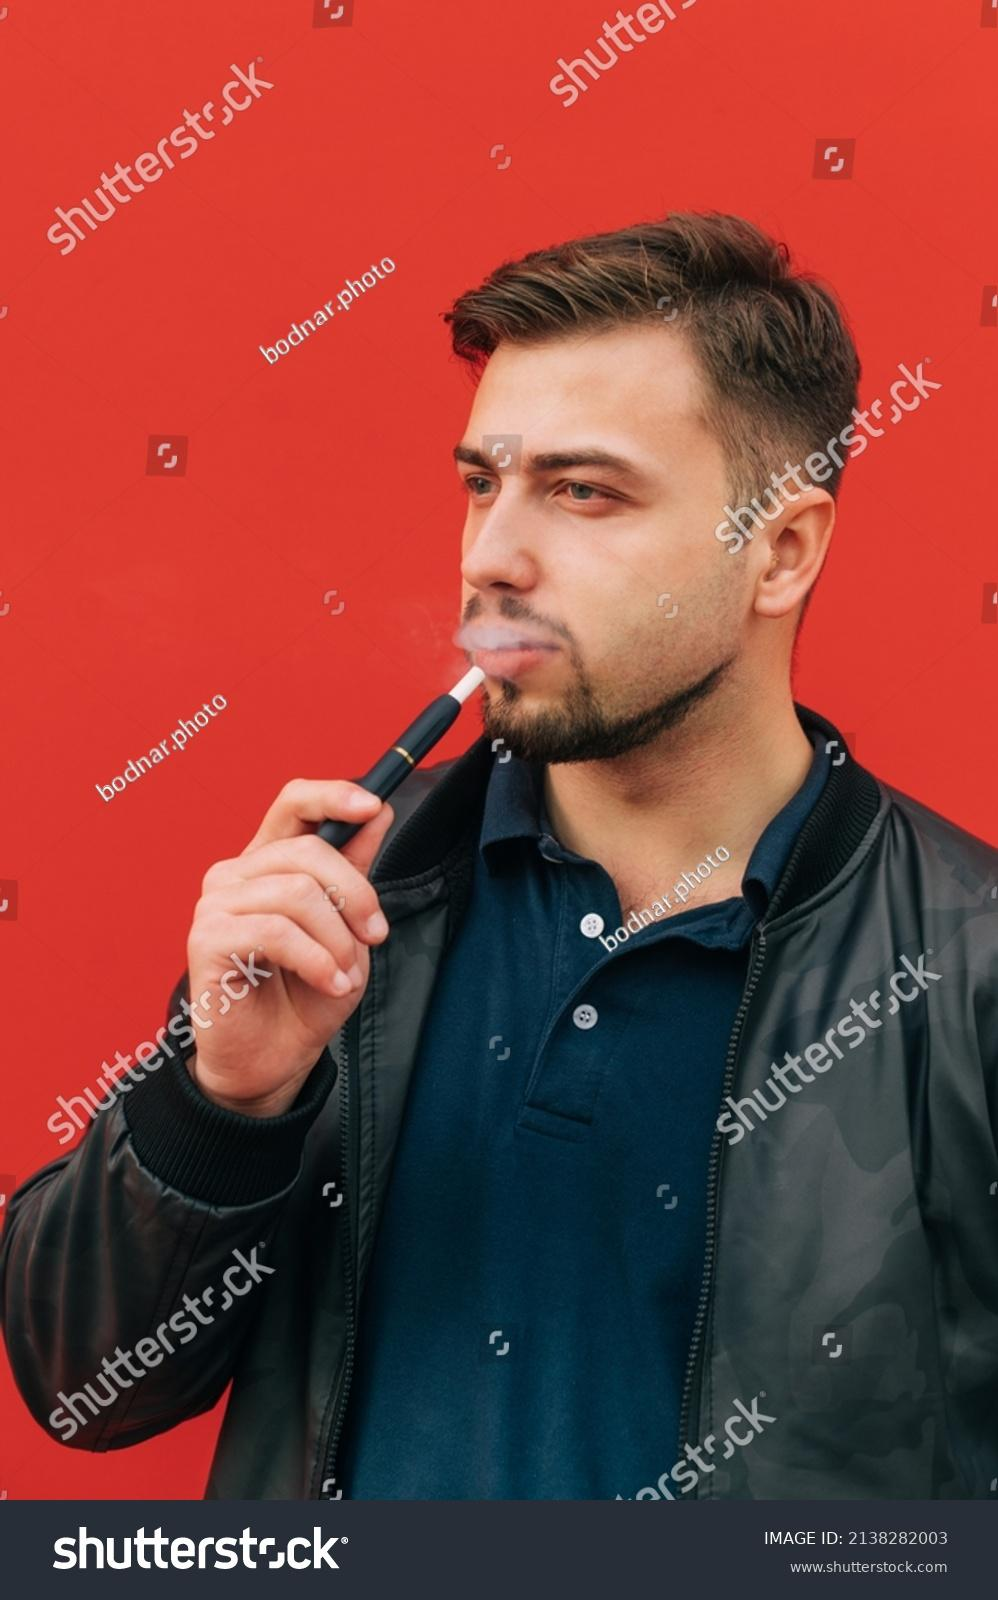iqos: (314, 663, 486, 851)
